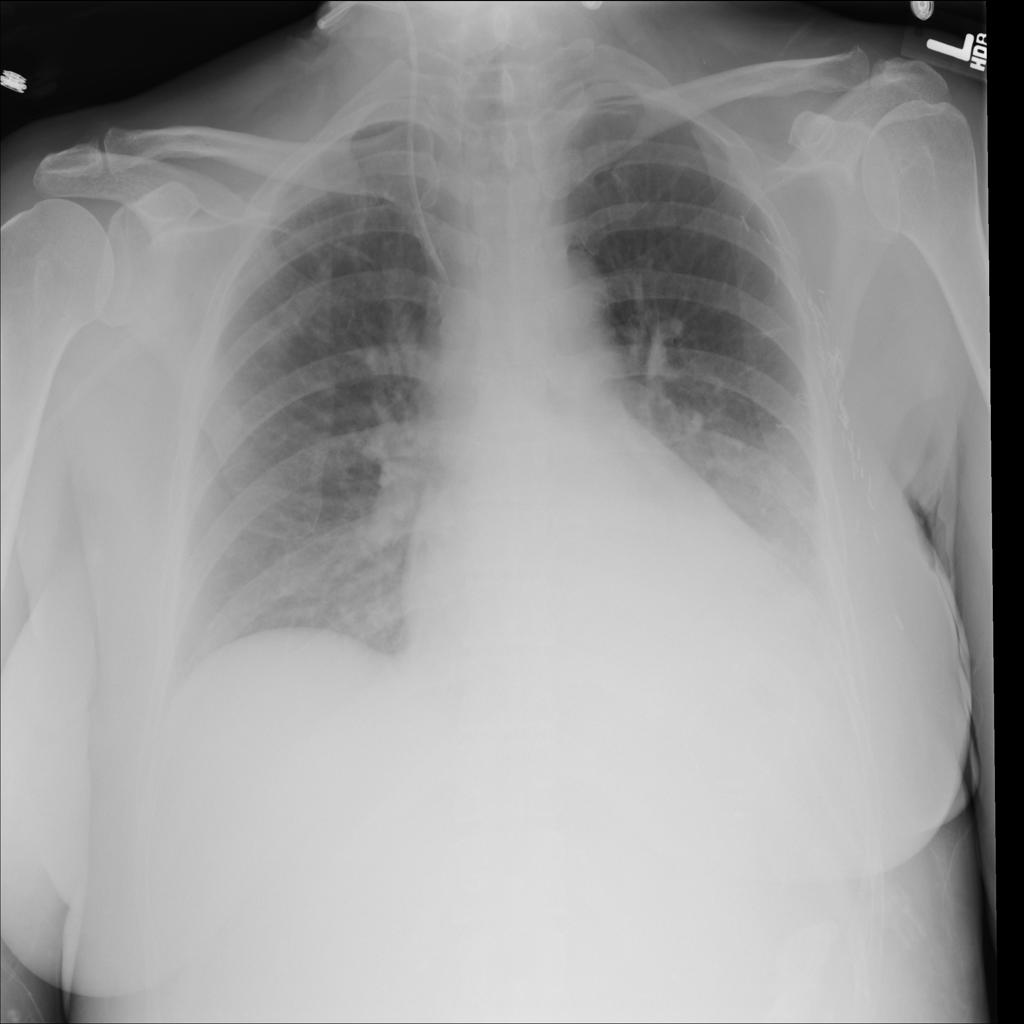nodule: (643, 188, 690, 241)
